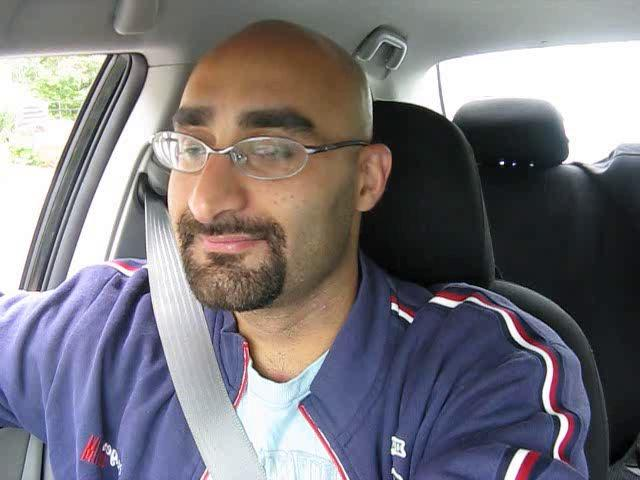close_eyeL: (163, 129, 220, 174)
close_eyeR: (236, 133, 321, 186)
no_yawn: (183, 218, 278, 266)
